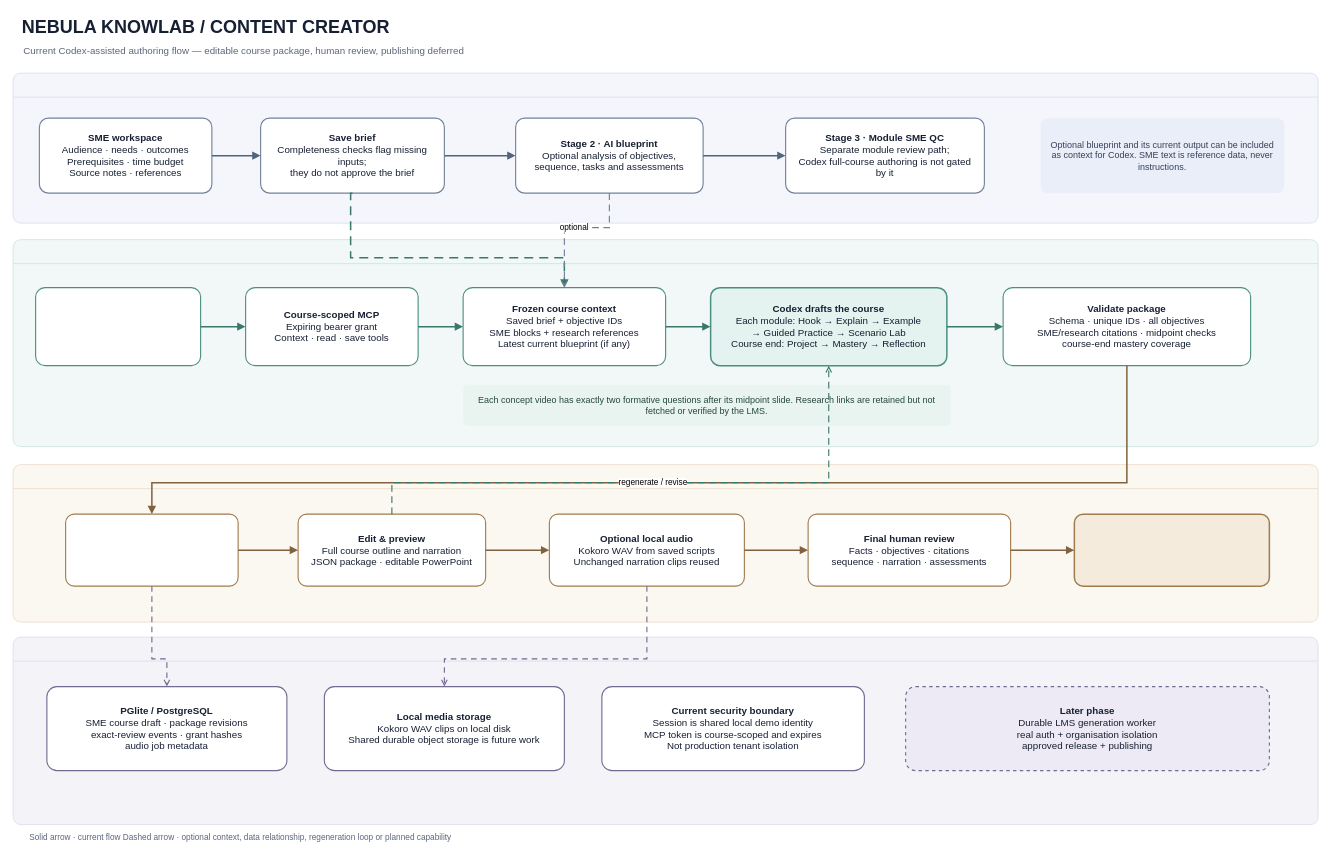
Image size: 1331x858. Some labels were removed from this diagram. Each missing label, with the box of its shape:
1 · SME INPUT & OPTIONAL BLUEPRINT: (12, 72, 1318, 223)
2 · CODEX-ASSISTED COURSE AUTHORING: (12, 239, 1318, 447)
3 · EDIT, SYNTHESIZE, REVIEW — PUBLISHING IS OUT OF SCOPE: (12, 464, 1318, 622)
4 · DATA, SECURITY & NEXT PHASE: (12, 636, 1318, 825)
Approved draft Approval binds to exact revision No learner publication endpoint: (1073, 513, 1270, 586)
Repository skill ILD sequence · source rules package shape · review boundary: (35, 287, 201, 366)
Save revision Optimistic version check Prior revisions stay immutable: (65, 513, 238, 586)
